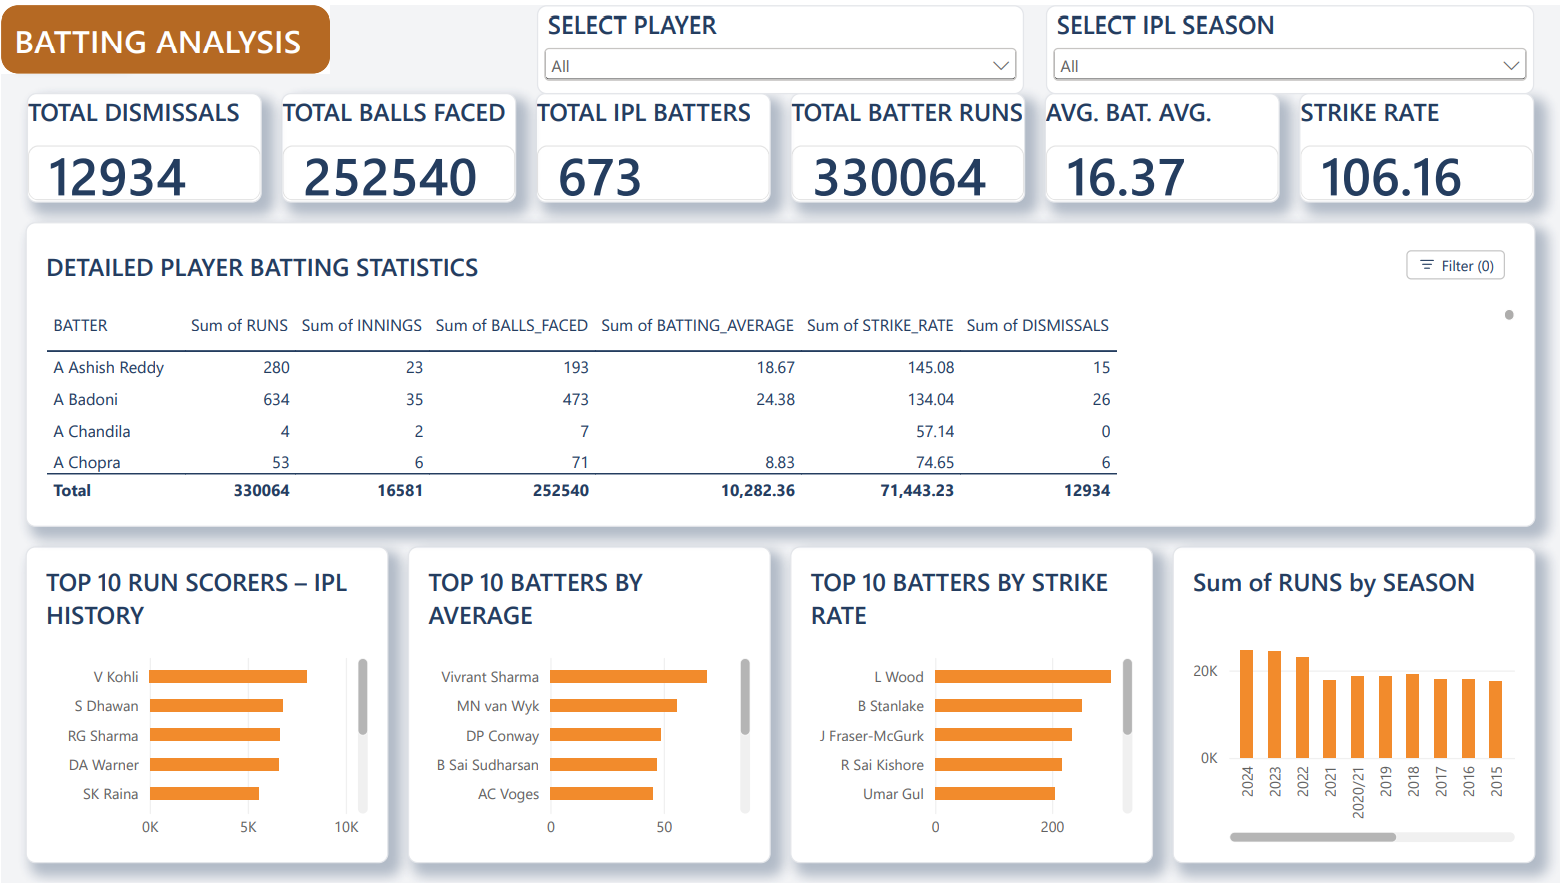

Layout of this report page (visuals, bound fields, positions):
{"tool":"powerbi","page":{"name":"Batting Analysis","canvas":[1280,720],"ordinal":1},"visuals":[{"type":"cardVisual","title":"TOTAL BATTER RUNS","fields":{"Data":["Sum(VW_PLAYER_BATTING.RUNS)"]},"box":[648,72,193,90],"z":0},{"type":"cardVisual","title":"TOTAL IPL BATTERS","fields":{"Data":["Count(VW_PLAYER_BATTING.BATTER)"]},"box":[439,72,193,90],"z":1000},{"type":"cardVisual","title":"TOTAL BALLS FACED","fields":{"Data":["Sum(VW_PLAYER_BATTING.BALLS_FACED)"]},"box":[230,72,193,90],"z":2000},{"type":"cardVisual","title":"AVG. BAT. AVG.","fields":{"Data":["Avg(VW_PLAYER_BATTING.BATTING_AVERAGE)"]},"box":[857,72,193,90],"z":3000},{"type":"cardVisual","title":"TOTAL DISMISSALS","fields":{"Data":["Sum(VW_PLAYER_BATTING.DISMISSALS)"]},"box":[21,72,193,90],"z":4000},{"type":"cardVisual","title":"STRIKE RATE","fields":{"Data":["Avg(VW_PLAYER_BATTING.STRIKE_RATE)"]},"box":[1066,72,193,90],"z":5000},{"type":"clusteredBarChart","title":"TOP 10 RUN SCORERS – IPL HISTORY","fields":{"Category":["VW_PLAYER_BATTING.BATTER"],"Y":["Sum(VW_PLAYER_BATTING.RUNS)"]},"box":[20,444,298,260],"z":6000},{"type":"clusteredBarChart","title":"TOP 10 BATTERS BY AVERAGE","fields":{"Category":["VW_PLAYER_BATTING.BATTER"],"Y":["Avg(VW_PLAYER_BATTING.BATTING_AVERAGE)"]},"box":[334,444,298,260],"z":7000},{"type":"clusteredBarChart","title":"TOP 10 BATTERS BY STRIKE RATE","fields":{"Category":["VW_PLAYER_BATTING.BATTER"],"Y":["Avg(VW_PLAYER_BATTING.STRIKE_RATE)"]},"box":[648,444,298,260],"z":8000},{"type":"clusteredColumnChart","fields":{"Category":["VW_SEASON_BATTING.SEASON"],"Y":["Sum(VW_SEASON_BATTING.RUNS)"]},"box":[962,444,298,260],"z":9000},{"type":"slicer","title":"SELECT IPL SEASON","fields":{"Values":["VW_DIM_SEASON.SEASON"]},"box":[857.5,0,401.2,72.5],"z":10000},{"type":"slicer","title":"SELECT PLAYER","fields":{"Values":["VW_DIM_PLAYER.PLAYER_NAME"]},"box":[440,0,400,72.5],"z":11000},{"type":"tableEx","title":"DETAILED PLAYER BATTING STATISTICS","fields":{"Values":["VW_PLAYER_BATTING.BATTER","Sum(VW_PLAYER_BATTING.RUNS)","Sum(VW_PLAYER_BATTING.INNINGS)","Sum(VW_PLAYER_BATTING.BALLS_FACED)","Sum(VW_PLAYER_BATTING.BATTING_AVERAGE)","Sum(VW_PLAYER_BATTING.STRIKE_RATE)","Sum(VW_PLAYER_BATTING.DISMISSALS)"]},"box":[20,178,1240,250],"z":12000},{"type":"actionButton","box":[0,0,100,40],"z":13000},{"type":"shape","box":[0,0,270,56],"z":14000},{"type":"textbox","box":[11.2,10,246.2,36.2],"z":15000}]}

Visuals, with their boxes in screenshot pixels (x1, y1, x2, y2), scaled from the page's 1280x720 canvas onto the 1562x883 screenshot:
"TOTAL BATTER RUNS" cardVisual: x1=791, y1=88, x2=1026, y2=199
"TOTAL IPL BATTERS" cardVisual: x1=536, y1=88, x2=771, y2=199
"TOTAL BALLS FACED" cardVisual: x1=281, y1=88, x2=516, y2=199
"AVG. BAT. AVG." cardVisual: x1=1046, y1=88, x2=1281, y2=199
"TOTAL DISMISSALS" cardVisual: x1=26, y1=88, x2=261, y2=199
"STRIKE RATE" cardVisual: x1=1301, y1=88, x2=1536, y2=199
"TOP 10 RUN SCORERS – IPL HISTORY" clusteredBarChart: x1=24, y1=545, x2=388, y2=863
"TOP 10 BATTERS BY AVERAGE" clusteredBarChart: x1=408, y1=545, x2=771, y2=863
"TOP 10 BATTERS BY STRIKE RATE" clusteredBarChart: x1=791, y1=545, x2=1154, y2=863
clusteredColumnChart - VW_SEASON_BATTING.SEASON x Sum(VW_SEASON_BATTING.RUNS): x1=1174, y1=545, x2=1538, y2=863
"SELECT IPL SEASON" slicer: x1=1046, y1=0, x2=1536, y2=89
"SELECT PLAYER" slicer: x1=537, y1=0, x2=1025, y2=89
"DETAILED PLAYER BATTING STATISTICS" tableEx: x1=24, y1=218, x2=1538, y2=525
actionButton: x1=0, y1=0, x2=122, y2=49
shape: x1=0, y1=0, x2=329, y2=69
textbox: x1=14, y1=12, x2=314, y2=57
